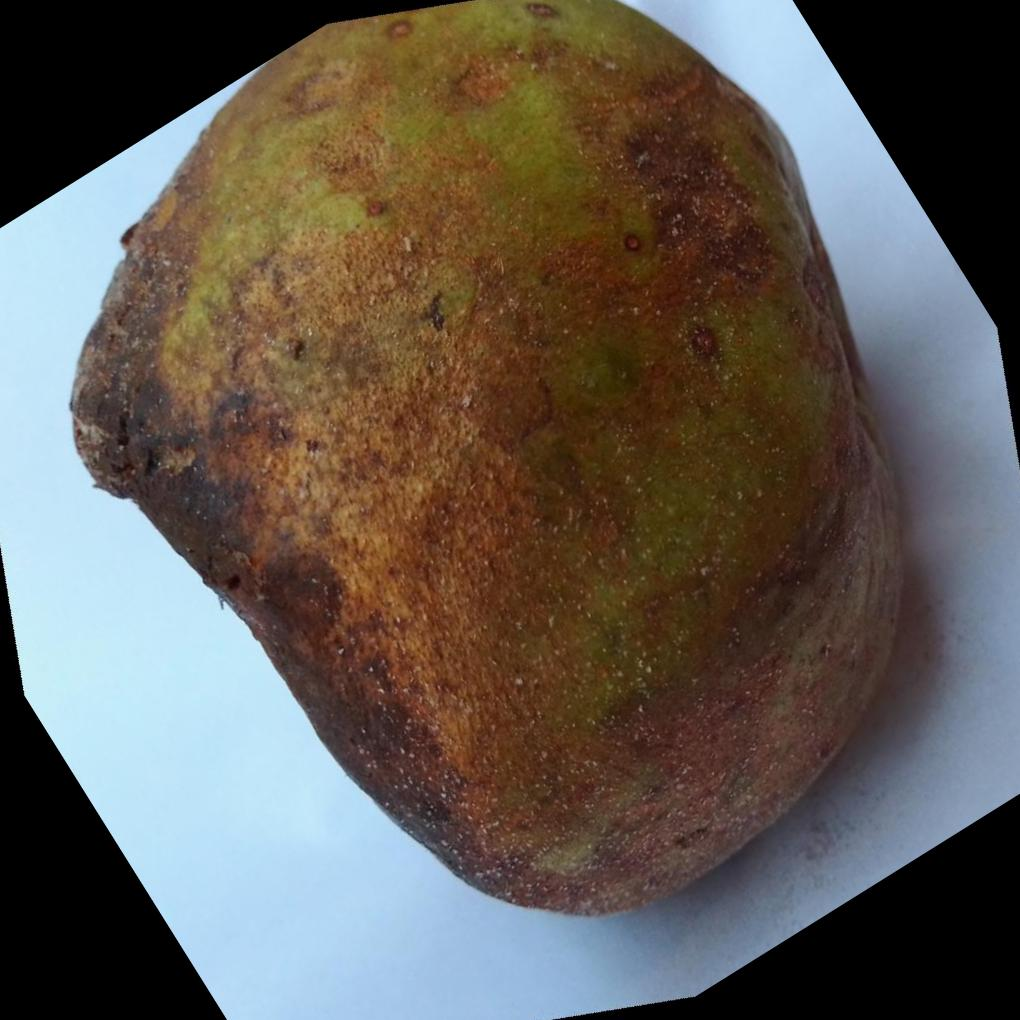FreshOrange: (67, 0, 911, 922)
